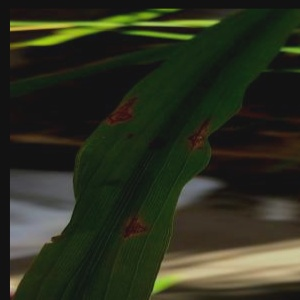Brown_Spot: (93, 89, 156, 136), (166, 107, 209, 156), (114, 208, 156, 251)
